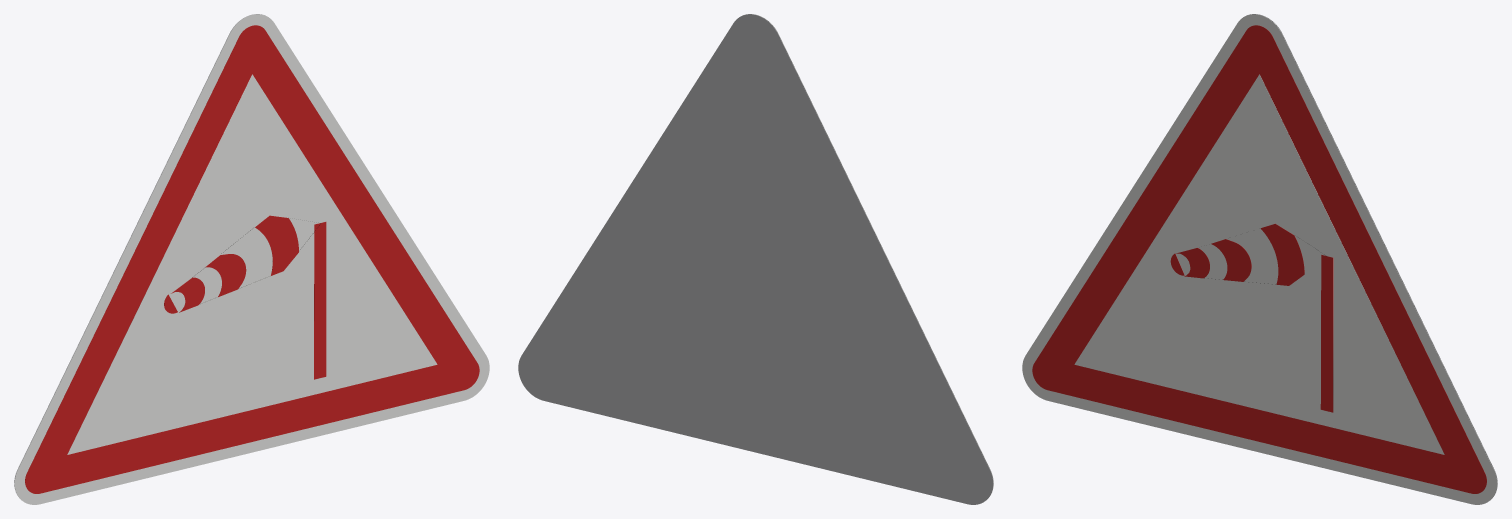
The picture shows the model from 3 angles, left to right: view 1: azimuth 30°, elevation 25°; view 2: azimuth 150°, elevation 25°; view 3: azimuth 330°, elevation 25°; orthographic projection.
Visible parts, largest first — view 1: A24_p02, A24_p01, A24_p00, A24_p03, A24_p09, A24_p10, A24_p12, A24_dos; view 2: A24_dos, A24_p00; view 3: A24_p02, A24_p01, A24_p00, A24_p03, A24_p09, A24_p10, A24_p12, A24_dos.
Boxes of the visible parts, x1,y1,x2,y2 form: A24_p02: [67, 74, 437, 454]; A24_p01: [25, 25, 479, 493]; A24_p00: [14, 14, 489, 504]; A24_p03: [314, 222, 326, 379]; A24_p09: [255, 215, 298, 275]; A24_p10: [205, 254, 246, 296]; A24_p12: [171, 277, 204, 312]; A24_dos: [14, 14, 265, 500]; A24_dos: [518, 14, 993, 504]; A24_p00: [742, 14, 993, 500]; A24_p02: [1074, 74, 1444, 454]; A24_p01: [1032, 25, 1486, 493]; A24_p00: [1022, 14, 1497, 504]; A24_p03: [1320, 255, 1333, 412]; A24_p09: [1261, 223, 1304, 285]; A24_p10: [1211, 239, 1251, 281]; A24_p12: [1176, 248, 1209, 278]; A24_dos: [1246, 14, 1497, 500].
Bounding box in the file's own units: 1 × 0.8803 × 0.0067.
